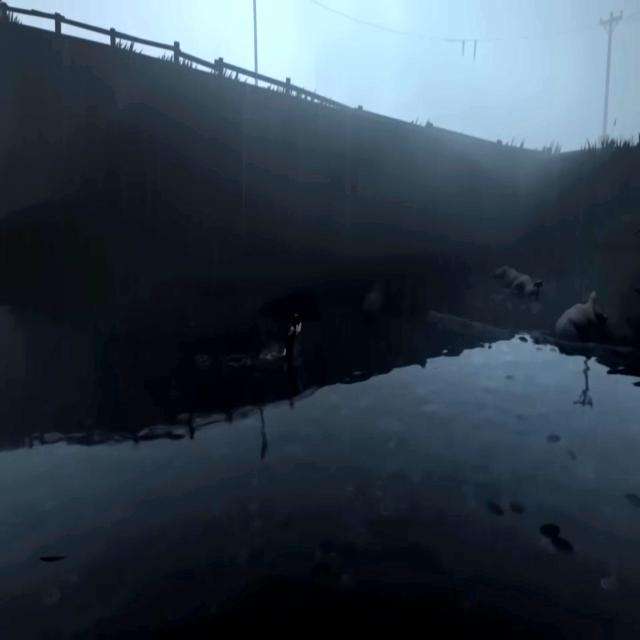boy: (282, 312, 301, 358)
